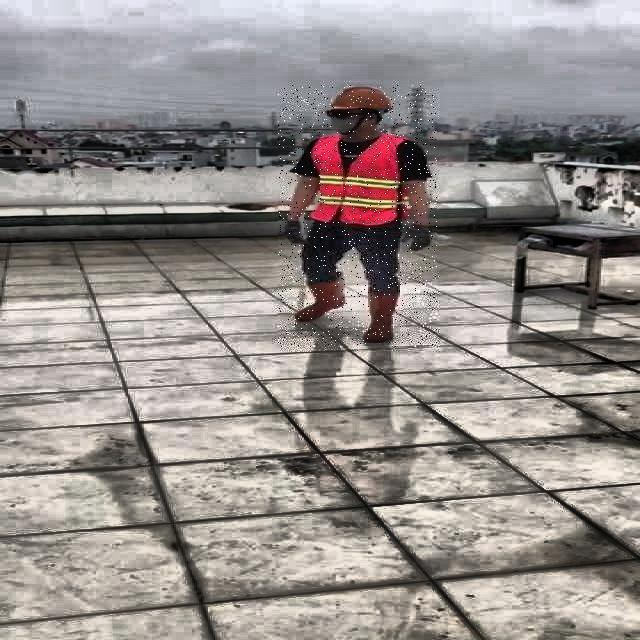safety_helmet: (326, 86, 394, 112)
safety_jacket: (311, 136, 407, 226)
